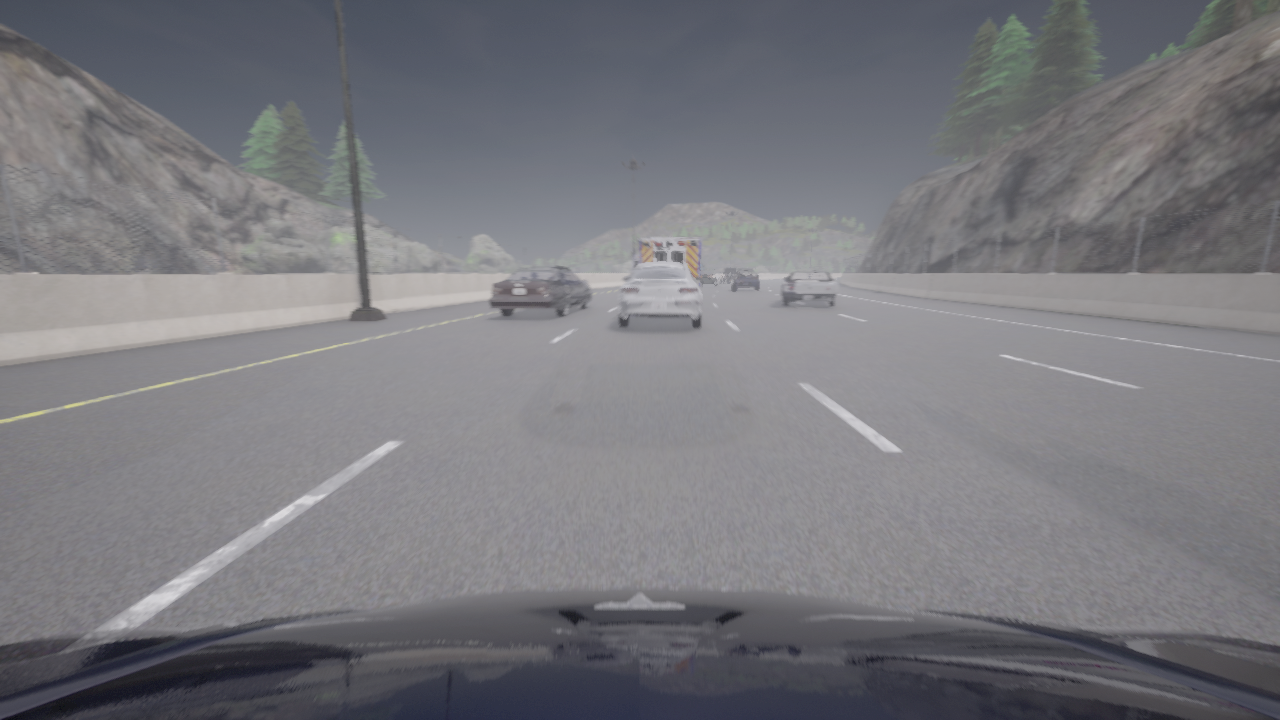cyclist: (0, 588, 1279, 719), (618, 263, 702, 328), (488, 267, 592, 317), (639, 238, 705, 292), (782, 271, 837, 306), (732, 269, 758, 291), (701, 269, 721, 287), (723, 268, 738, 283), (632, 254, 638, 273)
